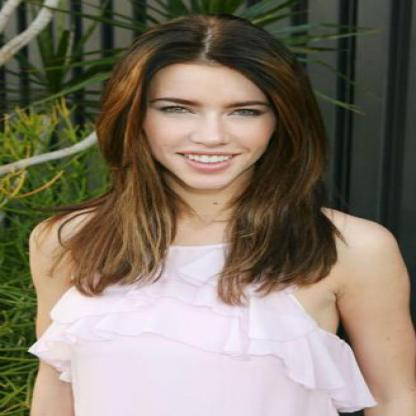long-hair: (90, 193, 332, 250)
